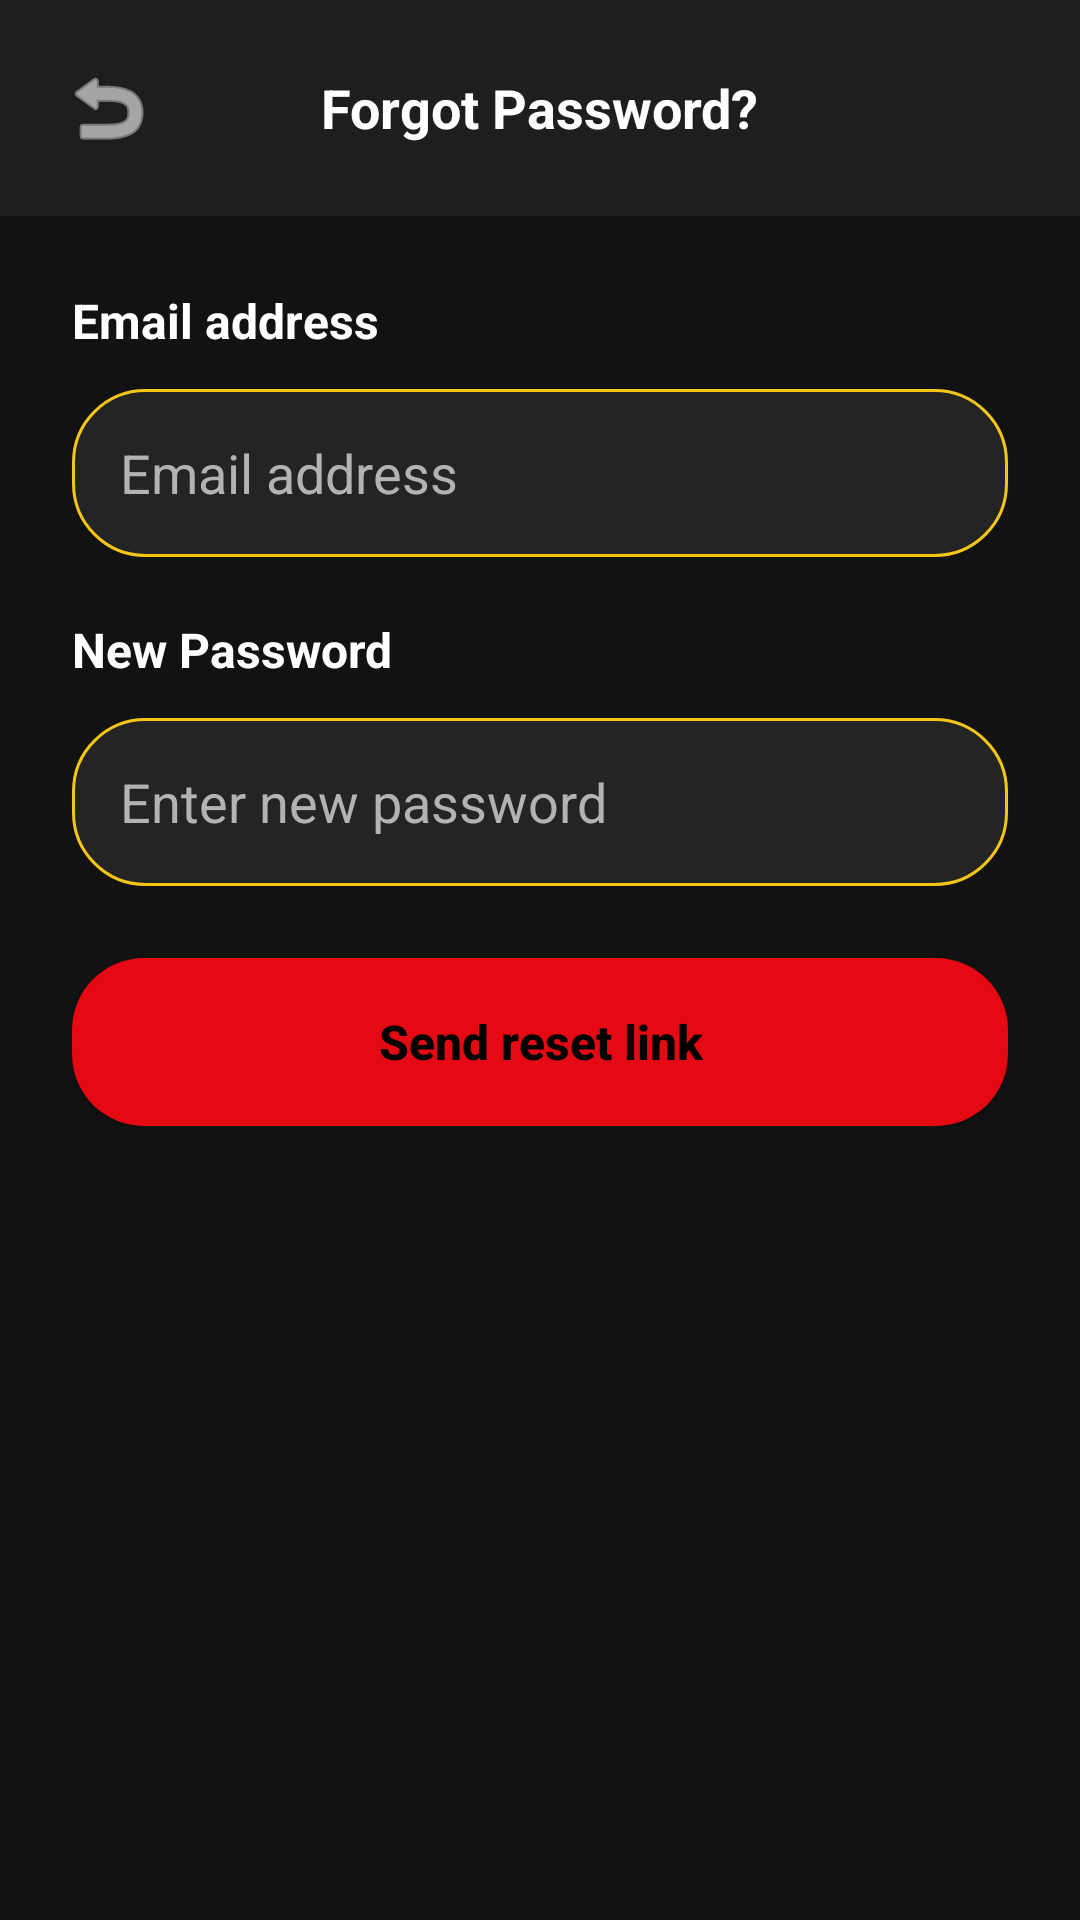

Screen size 1080x1920. Icon name, then its box in pixels as (x1, y1, x2, y2):
Back: (75, 77, 144, 140)
